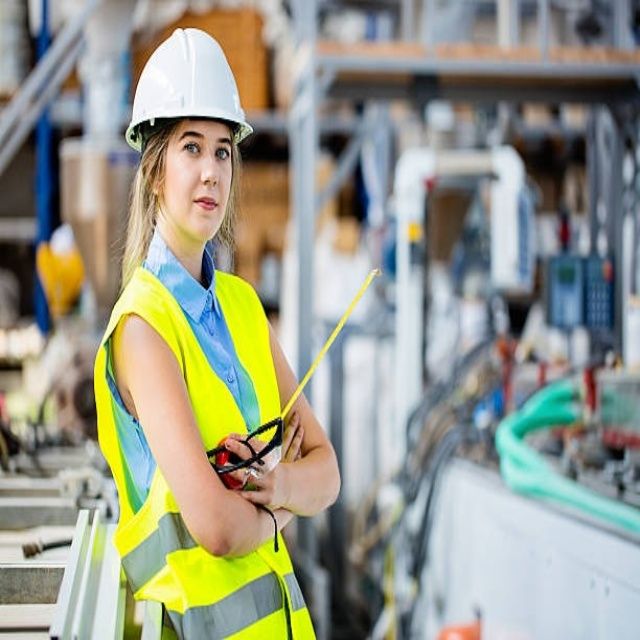Sin_gafas: (174, 125, 236, 174)
Sin_guantes: (233, 428, 301, 519)
Sin_mascara: (185, 190, 222, 231)
